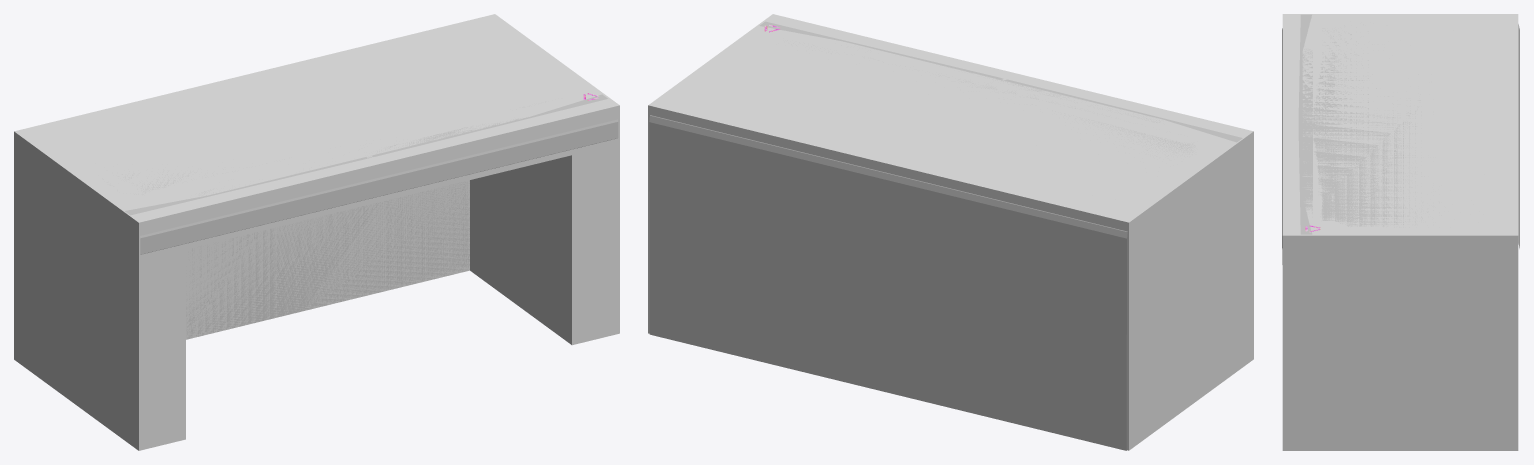
The model's file is table_03.fbx.
3 views of the same model, side by side, from view 1: azimuth 30°, elevation 25°; view 2: azimuth 150°, elevation 25°; view 3: azimuth 270°, elevation 25° (orthographic). The views are drawn at different scales.
Parts seen in each view (by area): view 1: Cube.374, Cube.362; view 2: Cube.362, Cube.374; view 3: Cube.374, Cube.363, Cube.362.
Part boxes in pixels (x1,y1,x2,y2): Cube.374: [14, 14, 619, 450]; Cube.362: [125, 94, 618, 339]; Cube.362: [649, 21, 1242, 450]; Cube.374: [648, 14, 1253, 450]; Cube.374: [1282, 14, 1518, 450]; Cube.363: [1323, 24, 1441, 227]; Cube.362: [1282, 14, 1519, 264].
Size of the model in its own units: 1.76 by 0.801 by 0.8.
